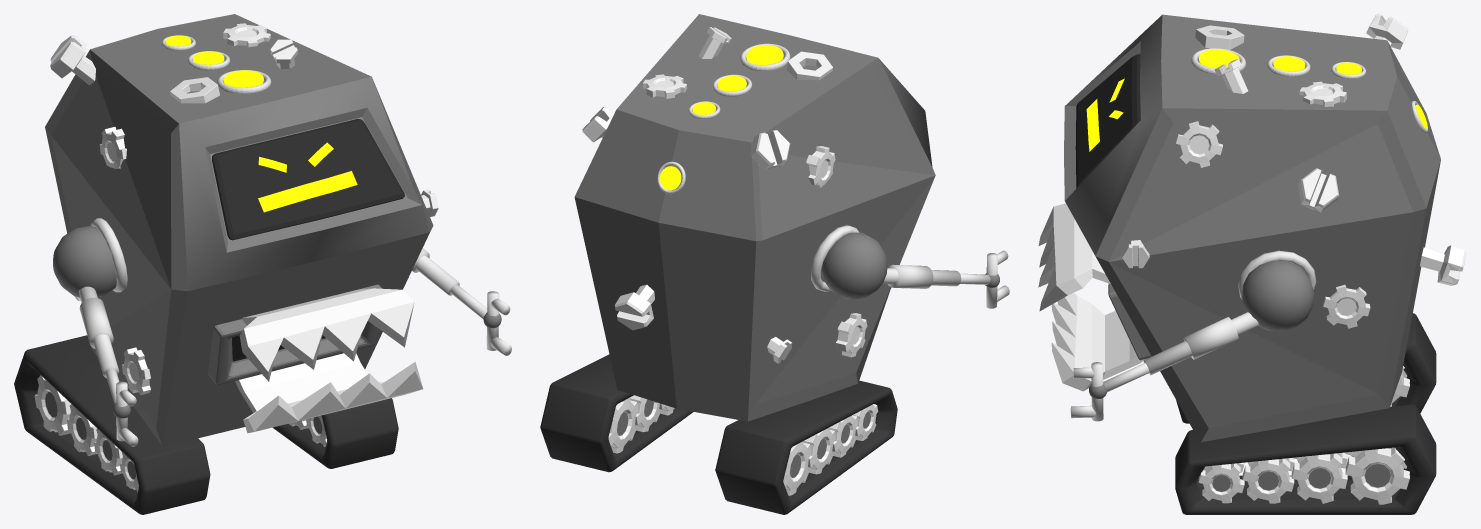
The model's file is enemy_grey.fbx.
3 views of the same model, side by side, from view 1: azimuth 30°, elevation 25°; view 2: azimuth 150°, elevation 25°; view 3: azimuth 270°, elevation 25° (orthographic). The views are drawn at different scales.
Parts seen in each view (by area): view 1: enemy.010, enemy.012, enemy.013, enemy.011; view 2: enemy.010, enemy.012, enemy.011, enemy.013; view 3: enemy.010, enemy.012, enemy.011, enemy.013.
Part boxes in pixels (x1,y1,x2,y2): enemy.010: (34,14,438,492); enemy.012: (14,335,398,514); enemy.013: (78,248,511,446); enemy.011: (53,218,127,297); enemy.010: (574,14,935,495); enemy.012: (540,354,897,514); enemy.011: (811,225,887,299); enemy.013: (883,250,1009,308); enemy.010: (1038,14,1466,504); enemy.012: (1175,313,1436,514); enemy.011: (1238,250,1316,331); enemy.013: (1070,312,1258,421).
Bounding box in the file's own units: 245 × 252 × 236.
